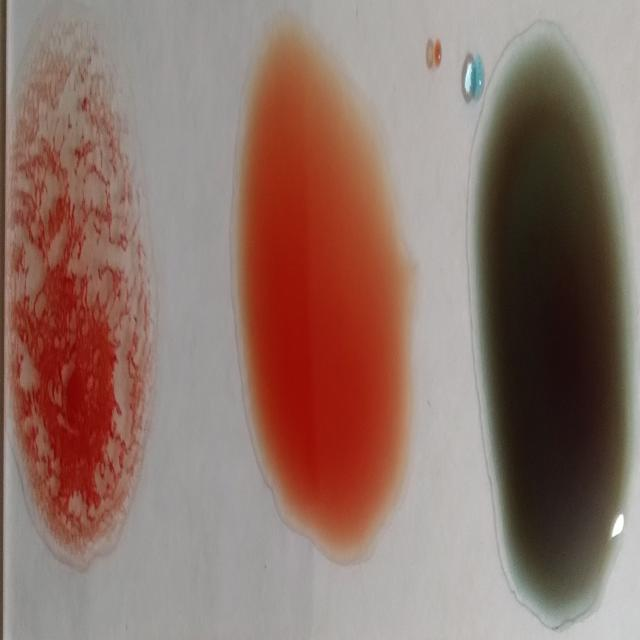D: (8, 31, 148, 567)
